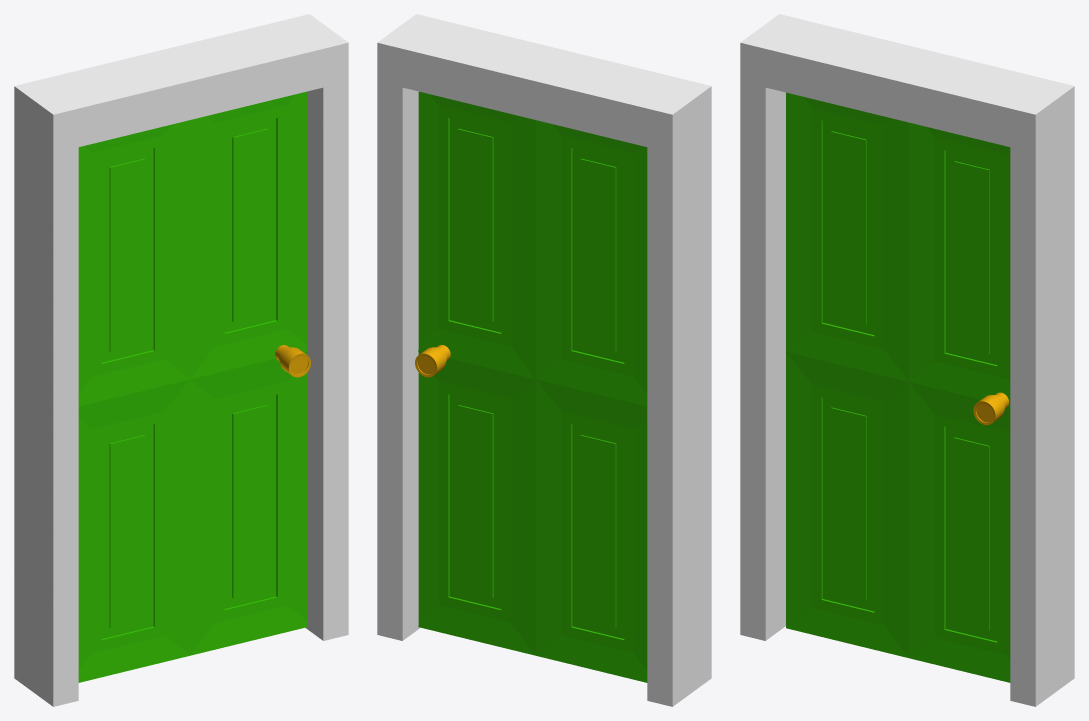
The model's file is LowPolyDoor.fbx.
3 views of the same model, side by side, from view 1: azimuth 30°, elevation 25°; view 2: azimuth 150°, elevation 25°; view 3: azimuth 330°, elevation 25° (orthographic).
Parts seen in each view (by area): view 1: Door, DoorFrame, DoorHandle; view 2: Door, DoorFrame, DoorHandle; view 3: Door, DoorFrame, DoorHandle.
Part boxes in pixels (box(x1,y1,x2,y2)): Door: box(78, 91, 307, 682); DoorFrame: box(14, 14, 348, 706); DoorHandle: box(275, 345, 310, 377); Door: box(418, 91, 647, 682); DoorFrame: box(377, 14, 711, 706); DoorHandle: box(415, 345, 450, 377); Door: box(786, 92, 1010, 682); DoorFrame: box(740, 14, 1074, 706); DoorHandle: box(973, 392, 1008, 425).
Size of the model in its own units: 110 by 211 by 26.71.
